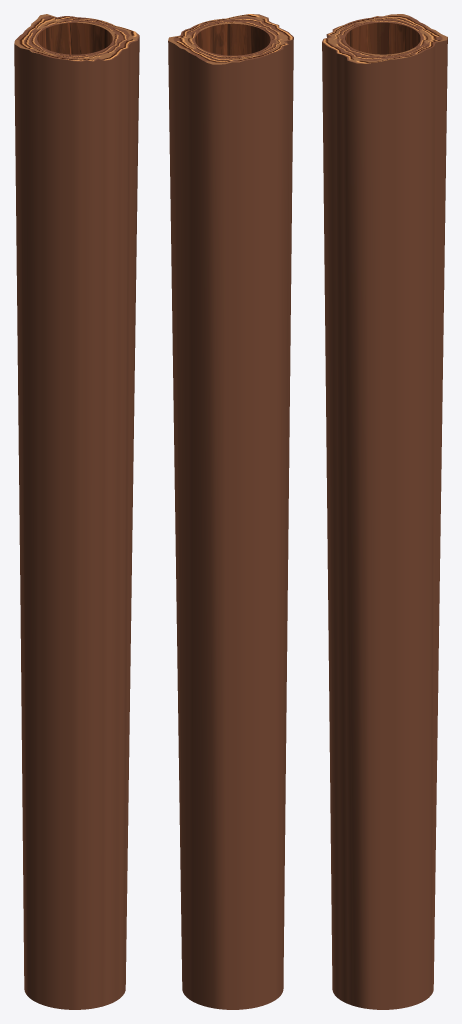
The model's file is trunk modified2.fbx.
3 renders of one model, left to right at view 1: azimuth 90°, elevation 25°; view 2: azimuth 150°, elevation 25°; view 3: azimuth 330°, elevation 25°, orthographic.
Visible parts, largest first — view 1: pCylinder1; view 2: pCylinder1; view 3: pCylinder1.
Part boxes in pixels (x1,y1,x2,y2): pCylinder1: (14, 14, 139, 1009); pCylinder1: (168, 14, 293, 1009); pCylinder1: (322, 14, 447, 1009).
Bounding box in the file's own units: 22.14 × 207 × 24.73.
Materials: 1 (1 with a texture image).
